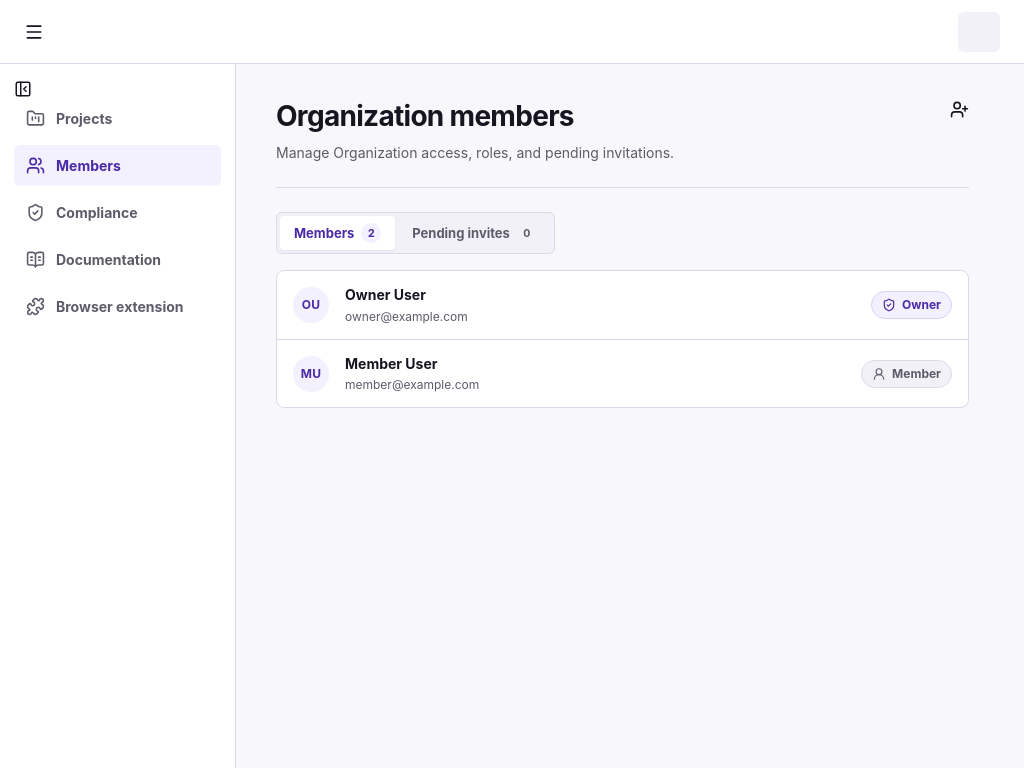
Scenario: OrganizationMembersPage › shows the Ossie invitation illustration when there are no pending invites
The width and height of the screenshot is (1024, 768).
Expected: the heading "Organization members" is shown, [276,99,574,133]
Click the tab "Pending invites 0". click: x=474, y=233
box: [398,216,551,250]
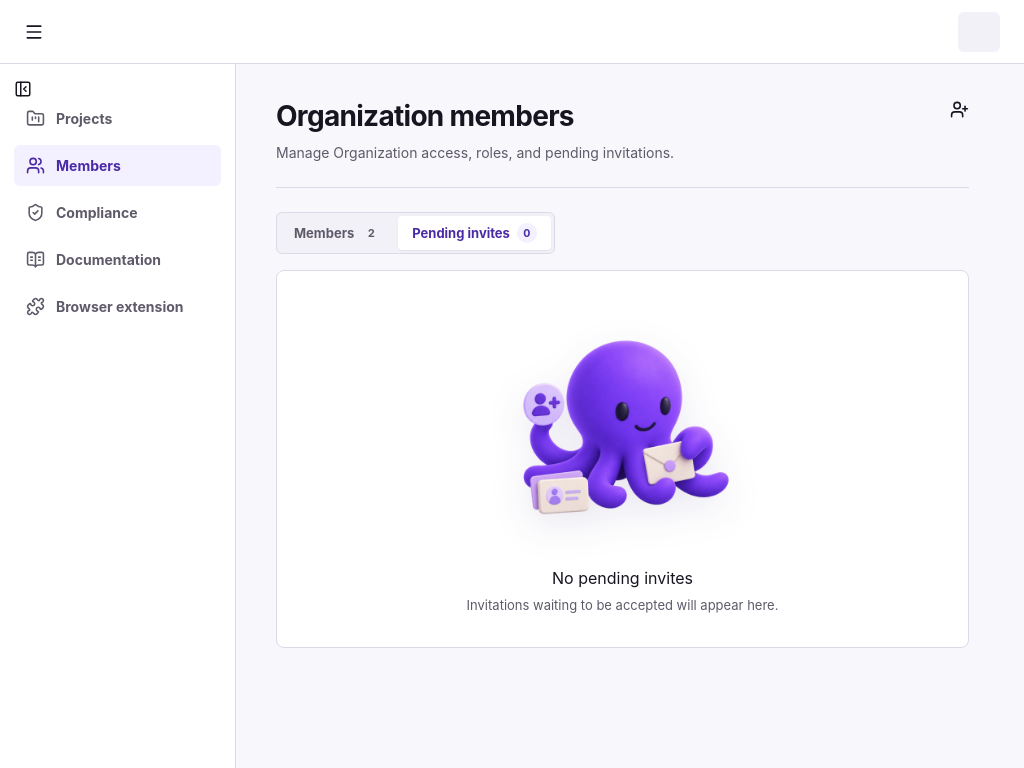
Expected: the heading "No pending invites" is shown, [552,567,693,590]
Expected: the text "Invitations waiting to be accepted will appear here." is shown, [467,596,778,615]
